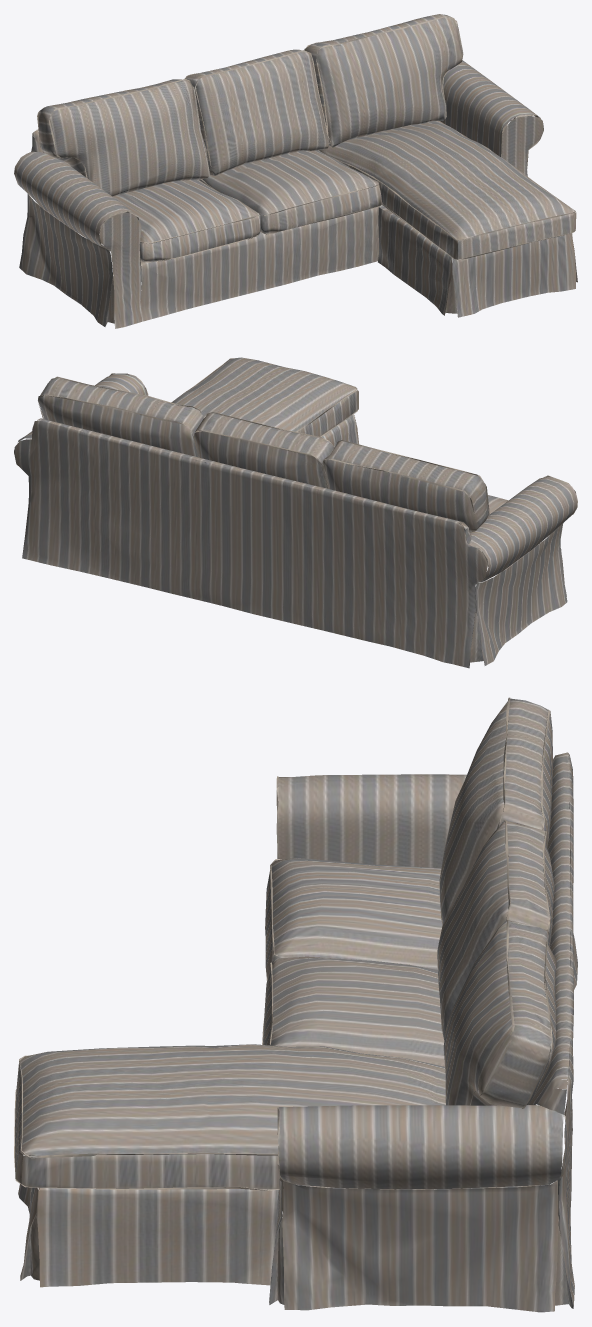
Rendered from ikea-ektorp-chaise.glb.
3 renders of one model, top to bottom at view 1: azimuth 30°, elevation 25°; view 2: azimuth 150°, elevation 25°; view 3: azimuth 270°, elevation 25°, orthographic. The views are drawn at different scales.
Parts seen in each view (by area): view 1: Mesh_0; view 2: Mesh_0; view 3: Mesh_0.
Part boxes in pixels (<box>): Mesh_0: <box>14,14,577,328</box>; Mesh_0: <box>14,357,577,668</box>; Mesh_0: <box>14,697,577,1312</box>.
Bounding box in the file's own units: 2.52 × 0.8986 × 1.64.
Materials: 1 (1 with a texture image).
